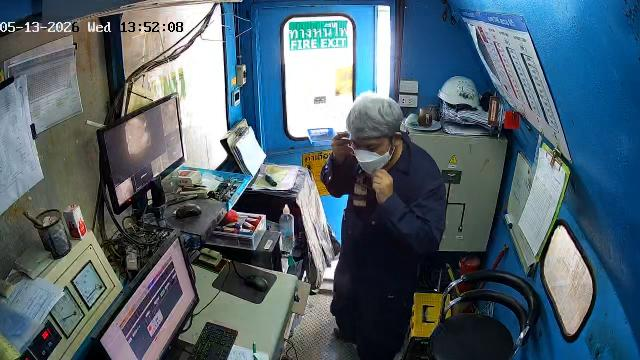Head: (346, 93, 402, 172)
People: (322, 93, 445, 359)
